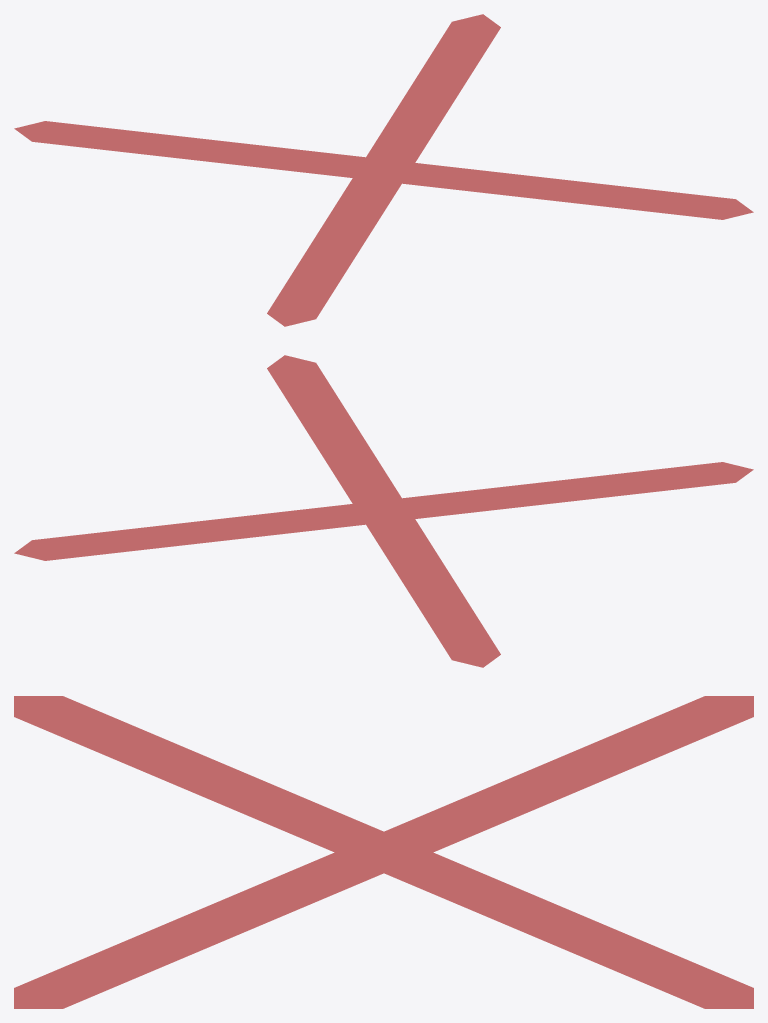
Rendered from CanAttack.fbx.
The picture shows the model from 3 angles, top to bottom: view 1: azimuth 30°, elevation 25°; view 2: azimuth 150°, elevation 25°; view 3: azimuth 270°, elevation 25°; orthographic projection. The views are drawn at different scales.
Parts seen in each view (by area): view 1: CanAttack; view 2: CanAttack; view 3: CanAttack.
Part boxes in pixels (bbox=[...]): CanAttack: bbox=[14, 14, 753, 326]; CanAttack: bbox=[14, 355, 753, 667]; CanAttack: bbox=[14, 696, 753, 1008].
Size of the model in its own units: 100 by 0 by 100.
